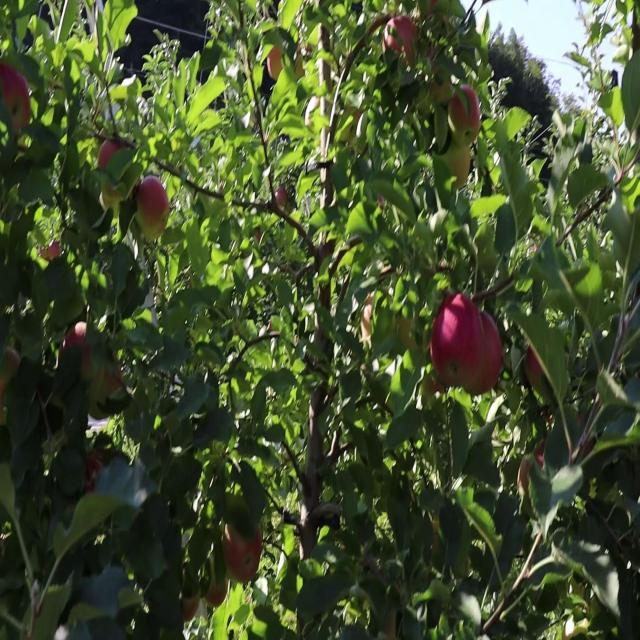apple: (432, 291, 480, 389), (461, 307, 504, 396), (224, 520, 264, 585), (0, 63, 32, 133), (448, 85, 482, 140), (388, 14, 420, 68), (0, 348, 22, 425), (136, 177, 171, 222), (444, 142, 473, 190), (520, 447, 547, 496), (60, 319, 88, 357), (104, 355, 125, 398), (524, 348, 546, 389), (80, 348, 102, 388), (100, 142, 126, 172), (4, 348, 22, 391), (432, 71, 453, 107), (368, 14, 389, 50), (208, 575, 229, 610), (0, 369, 12, 427), (184, 590, 201, 626), (420, 35, 438, 69), (268, 49, 285, 84), (40, 241, 62, 267), (364, 298, 376, 340), (276, 184, 289, 212), (424, 0, 439, 23)
